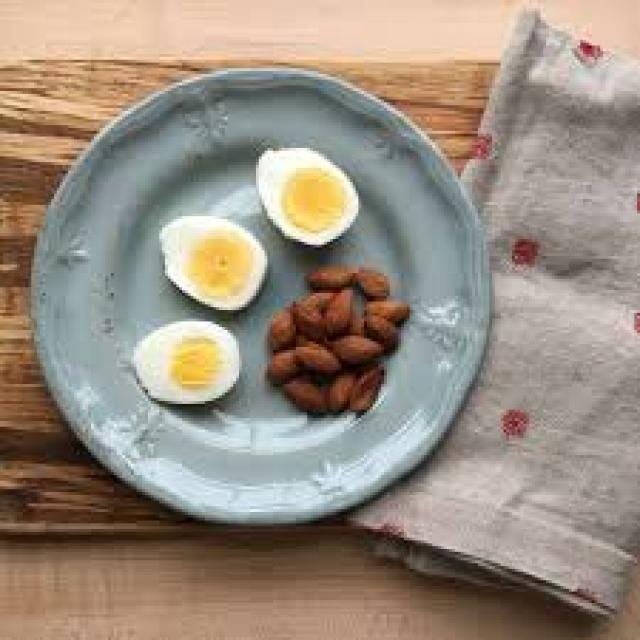boiled egg: (244, 114, 368, 249), (118, 293, 255, 414), (156, 200, 268, 313)
